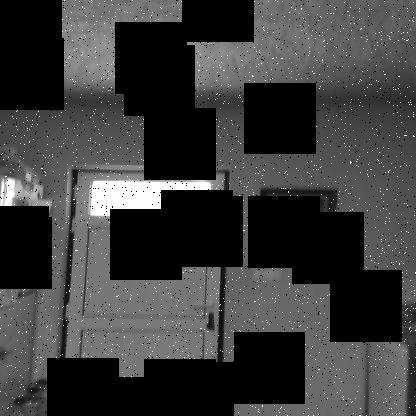Porte: (59, 171, 229, 415)
